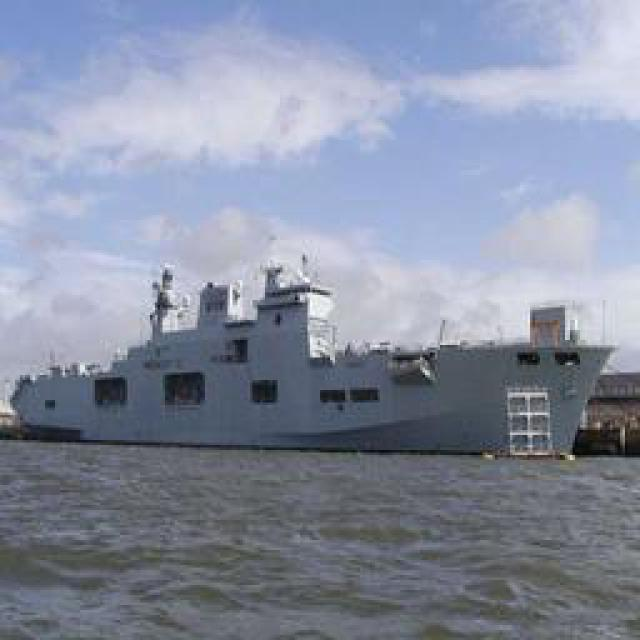Ship: (16, 244, 616, 457)
